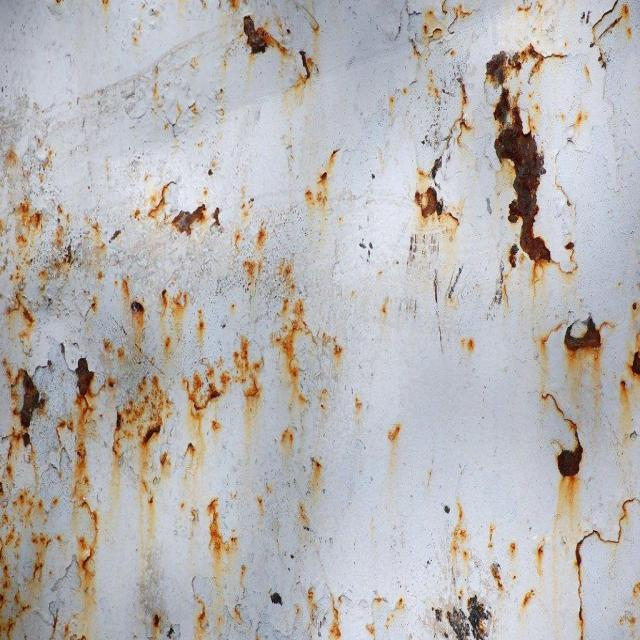Pitting Corrosion: (0, 274, 173, 604), (484, 0, 578, 309), (536, 313, 615, 518), (271, 262, 342, 404), (413, 72, 474, 234), (574, 495, 639, 639), (431, 499, 494, 639), (181, 336, 264, 438), (242, 14, 319, 94), (131, 180, 222, 238), (408, 0, 470, 67), (6, 265, 42, 359), (589, 0, 631, 70), (206, 497, 238, 569), (619, 329, 639, 443), (159, 288, 189, 360), (86, 216, 125, 249), (268, 588, 283, 606)
